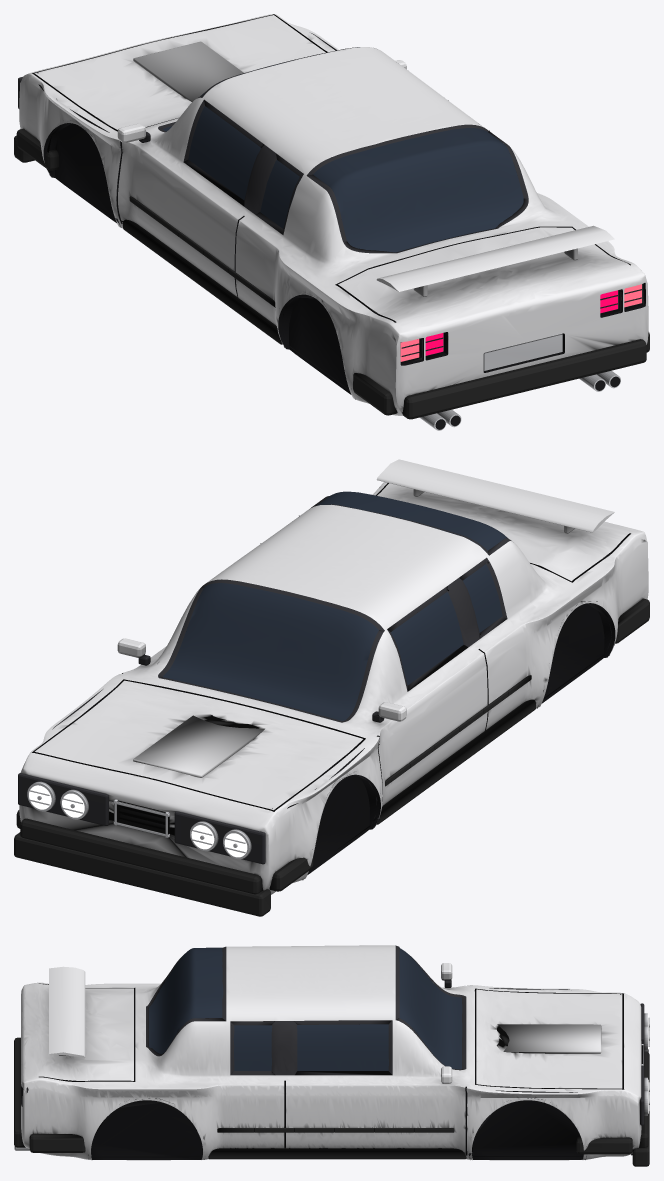
Rendered from hatch_lo.glb.
The picture shows the model from 3 angles, top to bottom: view 1: azimuth 30°, elevation 25°; view 2: azimuth 150°, elevation 25°; view 3: azimuth 270°, elevation 25°; orthographic projection. The views are drawn at different scales.
Visible parts, largest first — view 1: body, glass_panes, part.035, wing, part.030, part.079, part.054, cabin_skin, part.036, part.032; view 2: body, glass_panes, wing, part.034, part.031, part.030, part.079, part.008, part.019, part.036, part.032, cabin_skin; view 3: body, glass_panes, wing, part.080, part.030, part.037, cabin_skin, part.033, part.035, part.034, part.031.
Part boxes in pixels (left/top/right/bottom): body: left=19, top=14, right=648, bottom=415; glass_panes: left=163, top=47, right=523, bottom=252; part.035: left=402, top=339, right=646, bottom=419; wing: left=376, top=225, right=614, bottom=291; part.030: left=133, top=41, right=243, bottom=101; part.079: left=123, top=219, right=282, bottom=344; part.054: left=483, top=334, right=562, bottom=370; cabin_skin: left=37, top=33, right=645, bottom=399; part.036: left=353, top=373, right=397, bottom=415; part.032: left=16, top=128, right=58, bottom=170; body: left=19, top=482, right=648, bottom=894; glass_panes: left=163, top=491, right=508, bottom=720; wing: left=376, top=459, right=614, bottom=532; part.034: left=14, top=832, right=270, bottom=916; part.031: left=20, top=818, right=262, bottom=894; part.030: left=133, top=715, right=264, bottom=777; part.079: left=377, top=699, right=535, bottom=824; part.008: left=174, top=811, right=265, bottom=864; part.019: left=18, top=773, right=108, bottom=825; part.036: left=615, top=598, right=649, bottom=643; part.032: left=269, top=856, right=313, bottom=891; cabin_skin: left=40, top=483, right=628, bottom=880; body: left=21, top=945, right=641, bottom=1160; glass_panes: left=149, top=947, right=462, bottom=1070; wing: left=49, top=966, right=85, bottom=1057; part.080: left=208, top=1147, right=466, bottom=1159; part.030: left=497, top=1024, right=601, bottom=1053; part.037: left=29, top=1133, right=85, bottom=1152; cabin_skin: left=26, top=988, right=623, bottom=1159; part.033: left=576, top=1136, right=632, bottom=1154; part.035: left=14, top=1037, right=25, bottom=1147; part.034: left=632, top=1053, right=649, bottom=1166; part.031: left=639, top=1049, right=648, bottom=1147.
Bounding box in the file's own units: 1.89 × 1.15 × 4.5.
